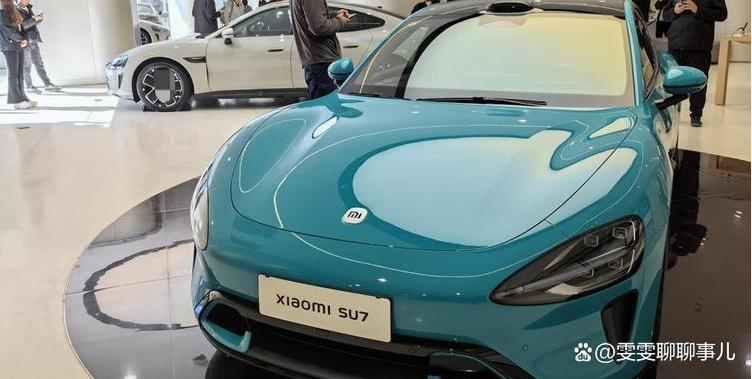XIAOMI: (342, 208, 367, 224)
